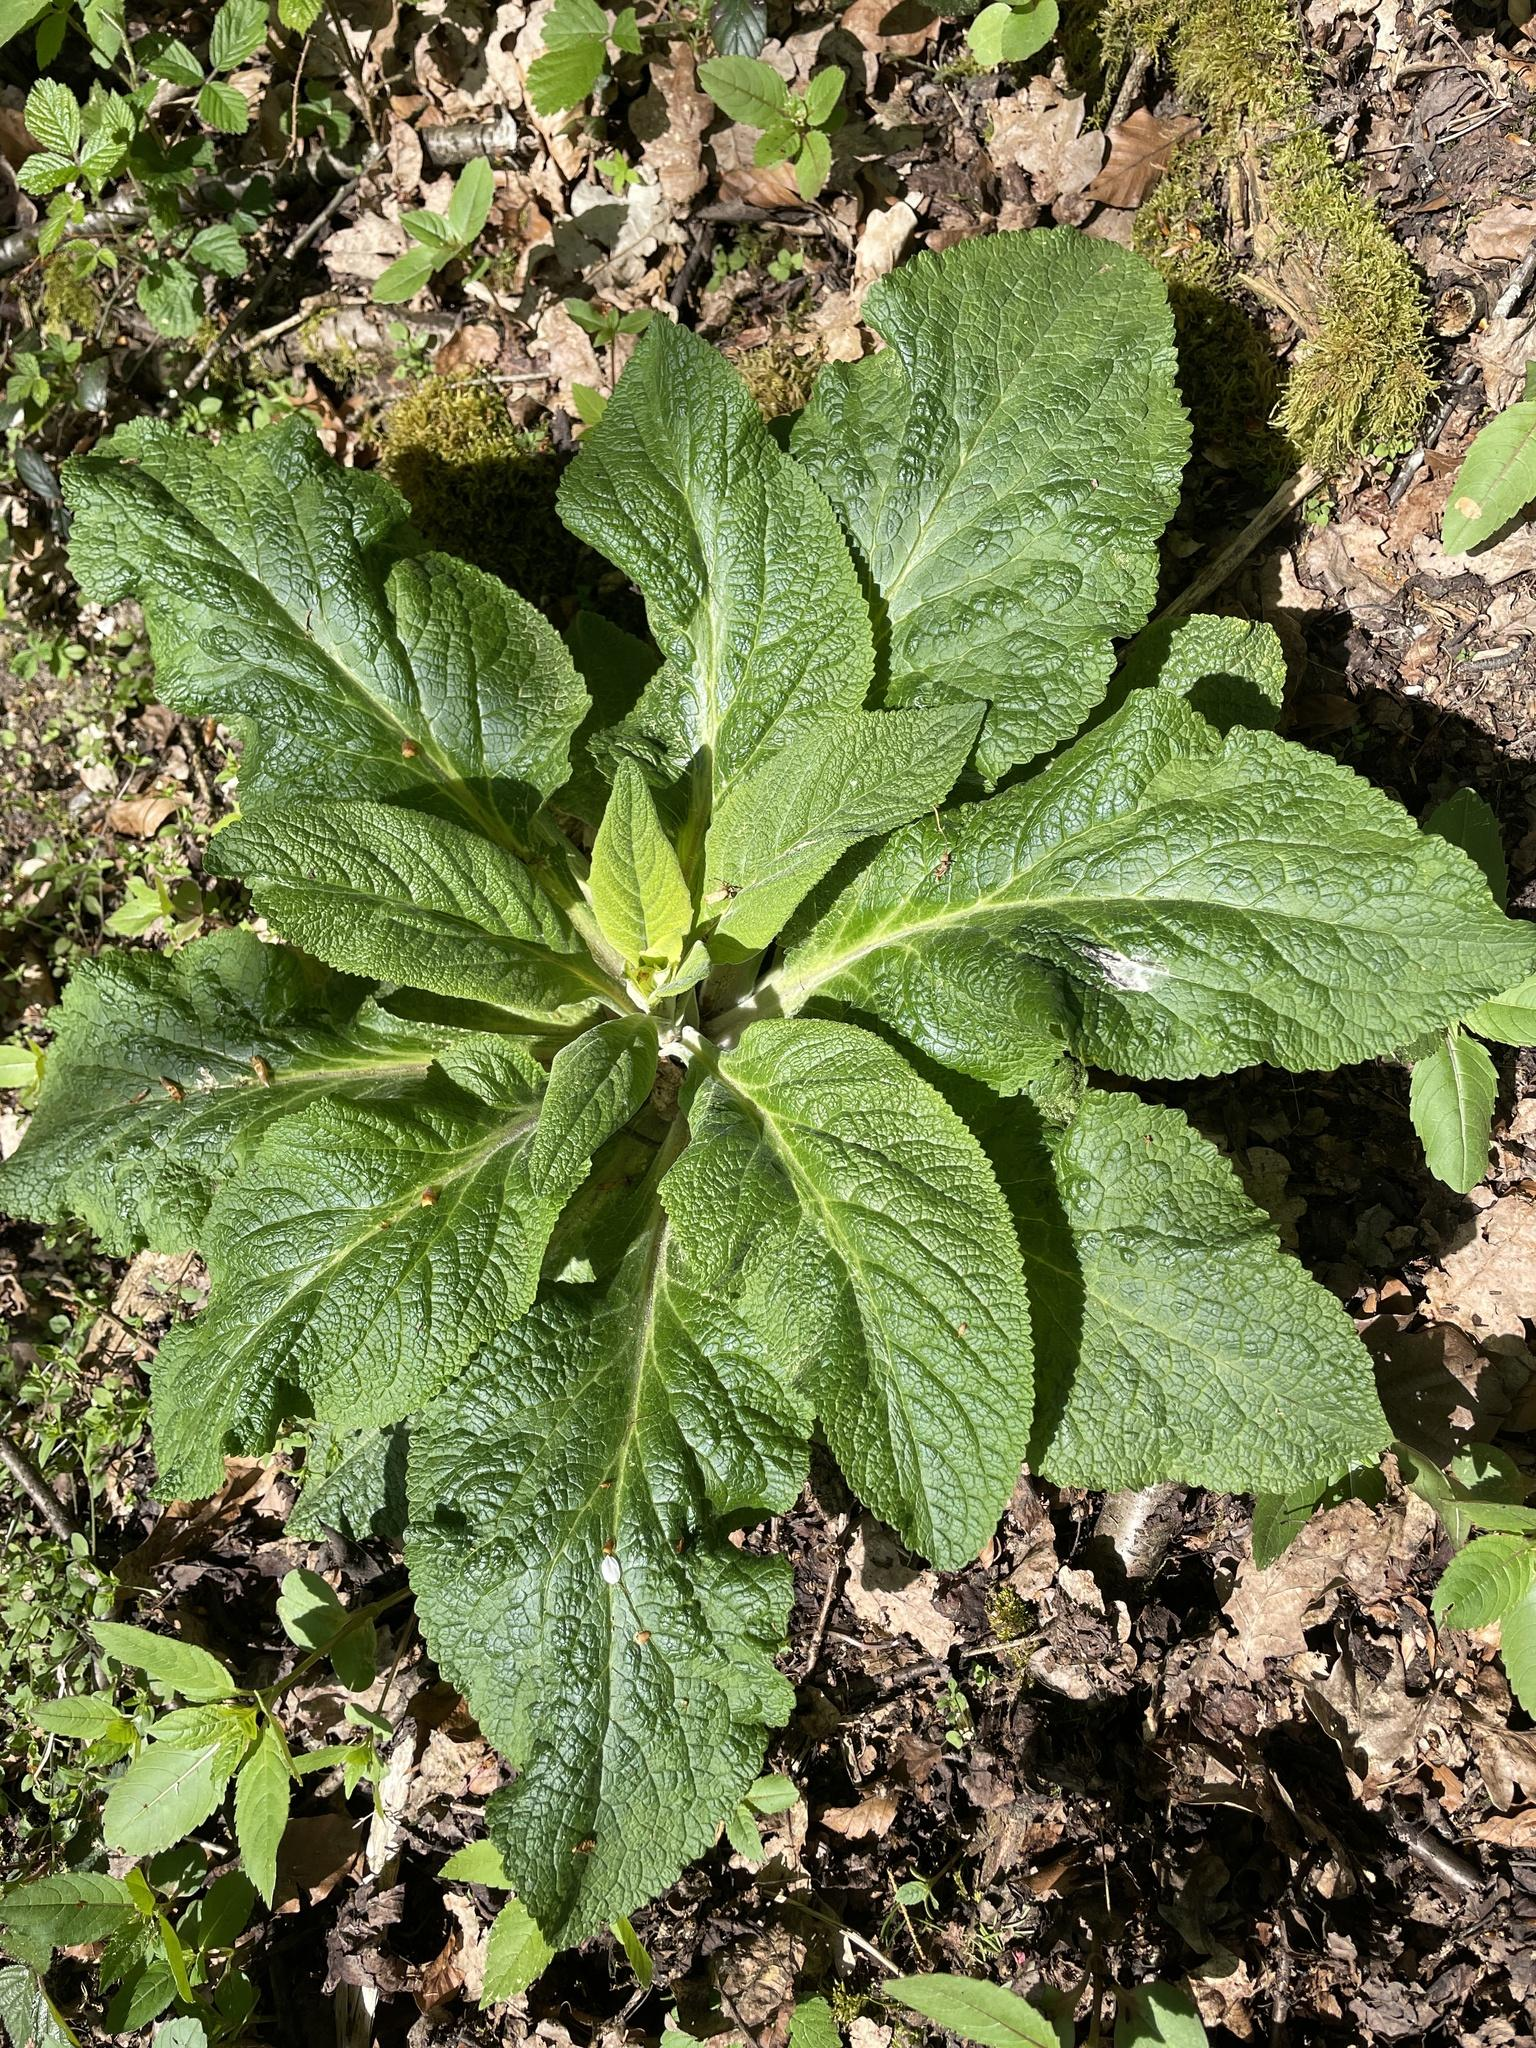Digitalis L: (39, 231, 1512, 1888)
